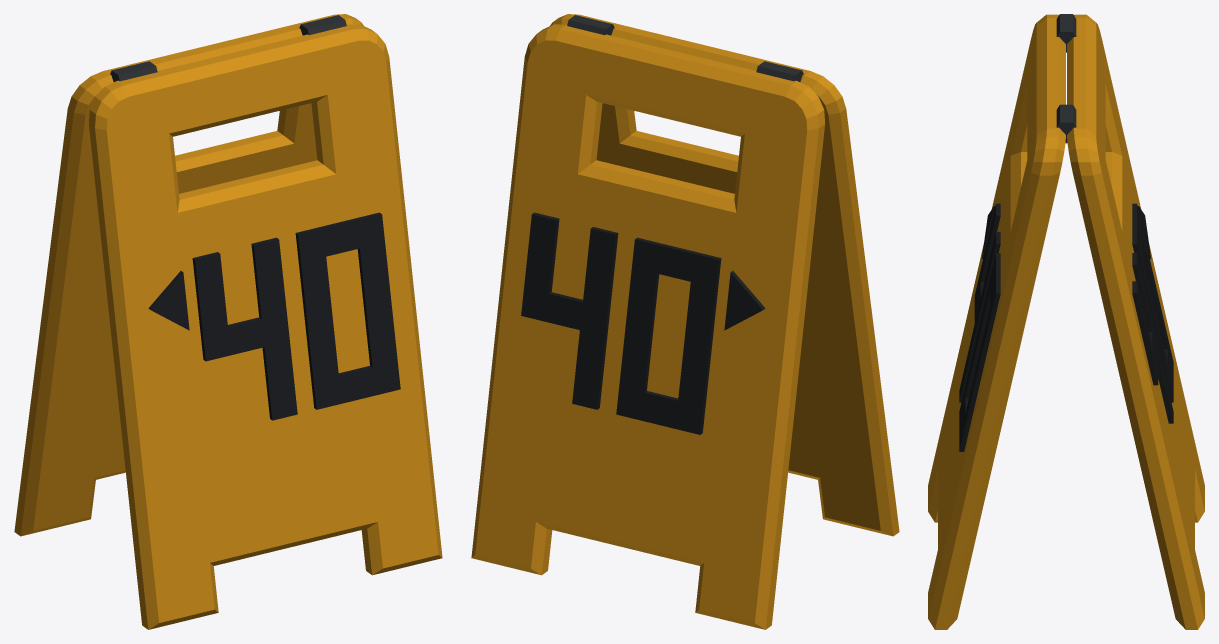
File: sideline-yard-marker-029dcc.glb
The picture shows the model from 3 angles, left to right: view 1: azimuth 30°, elevation 25°; view 2: azimuth 150°, elevation 25°; view 3: azimuth 270°, elevation 25°; orthographic projection.
Visible parts, largest first — view 1: leaf-front-shell, leaf-back-shell, hinge-and-ground; view 2: leaf-back-shell, leaf-front-shell, hinge-and-ground; view 3: leaf-front-shell, leaf-back-shell, hinge-and-ground.
Boxes of the visible parts, x1=… form: leaf-front-shell: x1=88, y1=24, x2=442, y2=629; leaf-back-shell: x1=14, y1=14, x2=363, y2=536; hinge-and-ground: x1=110, y1=15, x2=346, y2=81; leaf-back-shell: x1=471, y1=24, x2=825, y2=629; leaf-front-shell: x1=550, y1=14, x2=899, y2=536; hinge-and-ground: x1=567, y1=15, x2=803, y2=81; leaf-front-shell: x1=928, y1=14, x2=1065, y2=629; leaf-back-shell: x1=1067, y1=14, x2=1204, y2=629; hinge-and-ground: x1=1056, y1=14, x2=1076, y2=143.
Size of the model in its own units: 0.28 by 0.4545 by 0.2321.
